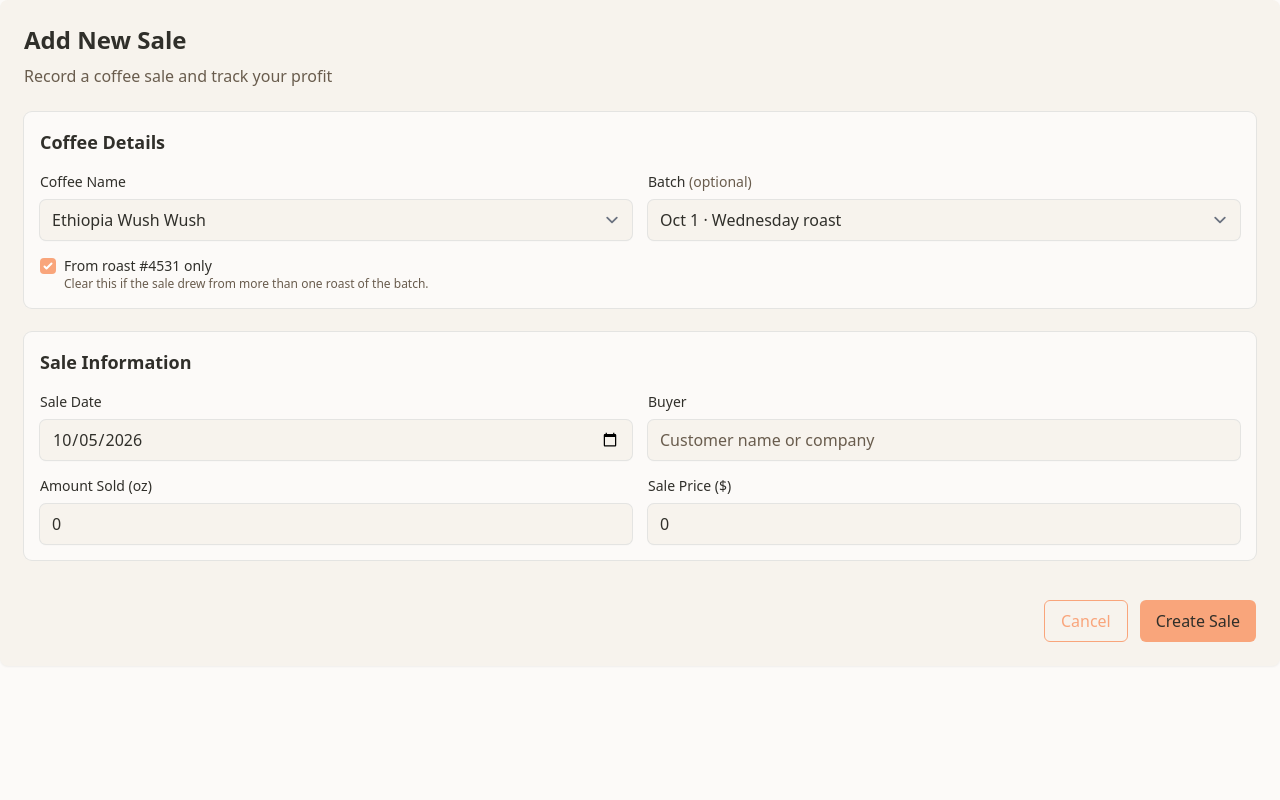
Test case: SaleForm batches and roasts › clears the batch and the roast with the coffee
Select "Select a coffee..." in the dropdown labelled "Coffee Name". click: (336, 220)
box: [40,200,632,240]
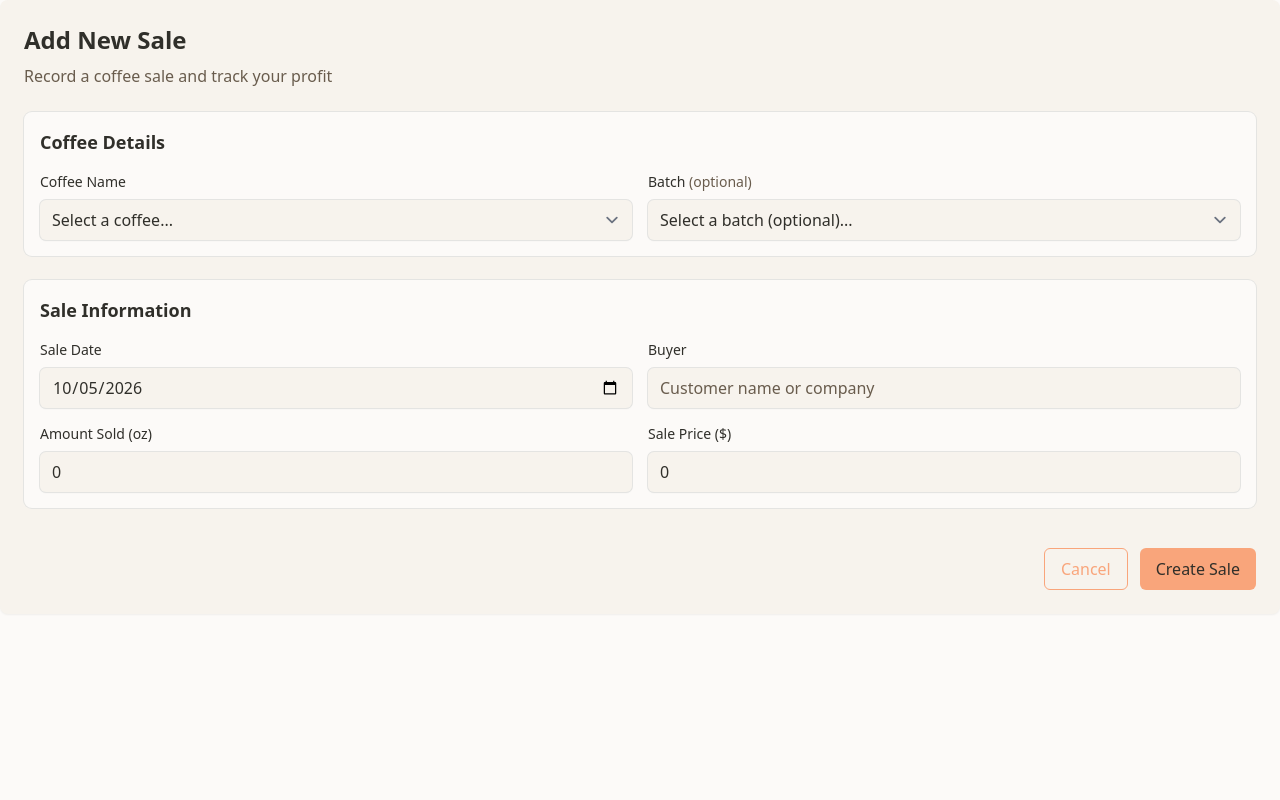
expect the dropdown labelled "Batch (optional)" shows "Select a batch (optional)...": met, box [648,200,1240,240]
